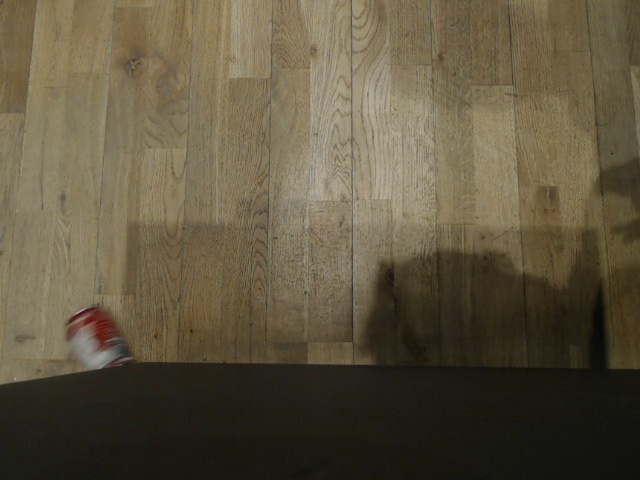cola: (63, 306, 128, 374)
